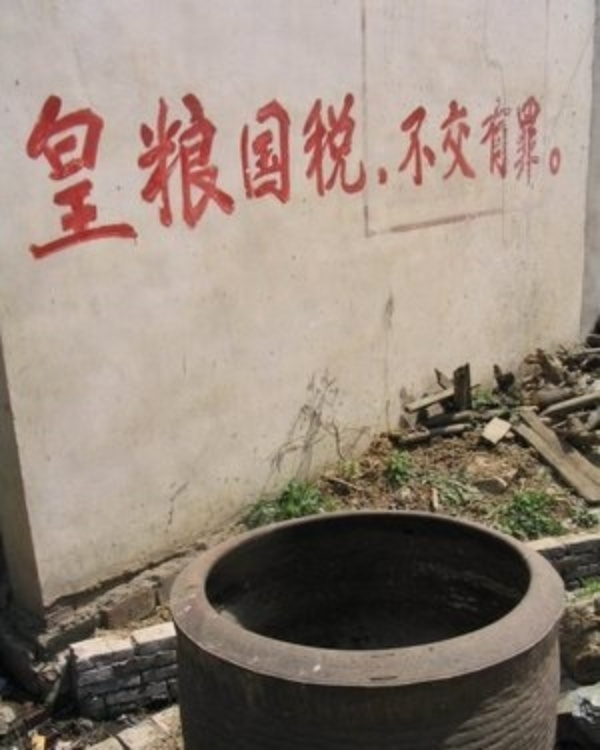text: (17, 91, 32, 267), (33, 91, 48, 267), (49, 91, 64, 267), (65, 91, 80, 267), (81, 91, 96, 267), (97, 91, 112, 267), (113, 91, 128, 267), (129, 91, 144, 267), (145, 91, 160, 267), (161, 91, 176, 267), (177, 91, 192, 267), (193, 91, 208, 267), (209, 91, 224, 267), (225, 91, 240, 267), (241, 91, 256, 267), (257, 91, 272, 267), (273, 91, 288, 267), (289, 91, 304, 267), (305, 91, 320, 267), (321, 91, 336, 267), (337, 91, 352, 267), (353, 91, 368, 267), (369, 91, 384, 267), (385, 91, 400, 267), (401, 91, 416, 267), (417, 91, 432, 267), (433, 91, 448, 267), (449, 91, 464, 267), (465, 91, 480, 267), (481, 91, 496, 267), (497, 91, 512, 267), (513, 91, 528, 267), (529, 91, 544, 267), (545, 91, 560, 267), (561, 91, 563, 267), (15, 91, 16, 267)
